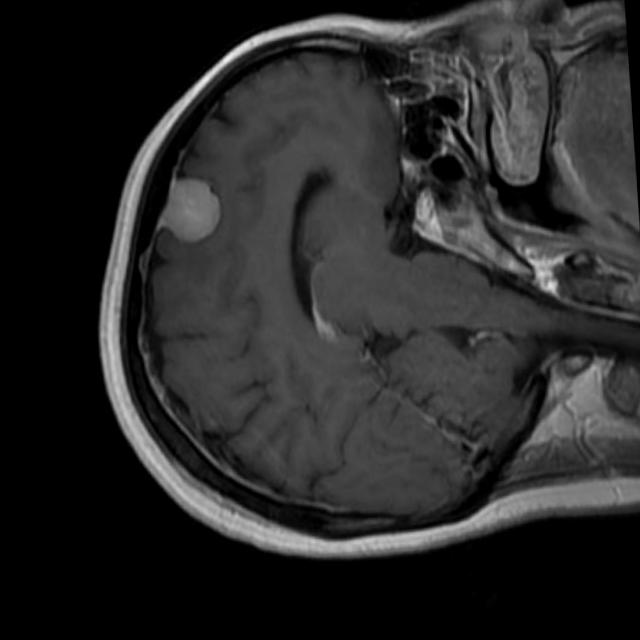Meningioma: (157, 172, 226, 246)
Pituitary: (407, 184, 444, 246)
